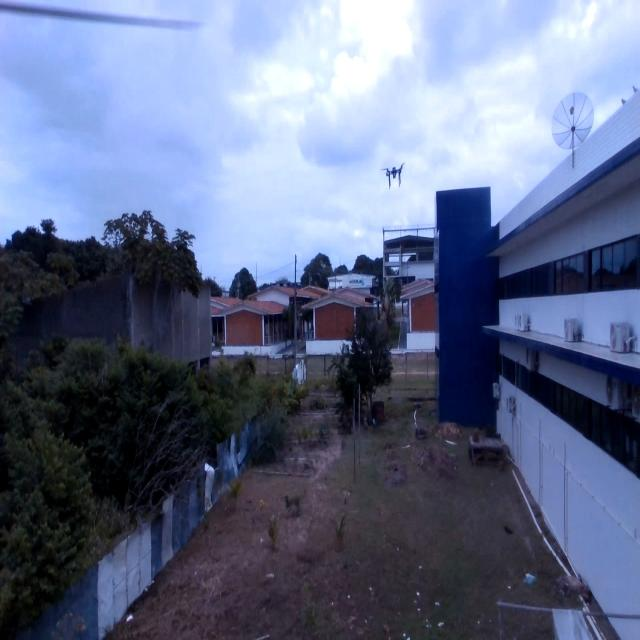-uav-: (377, 158, 408, 196)
